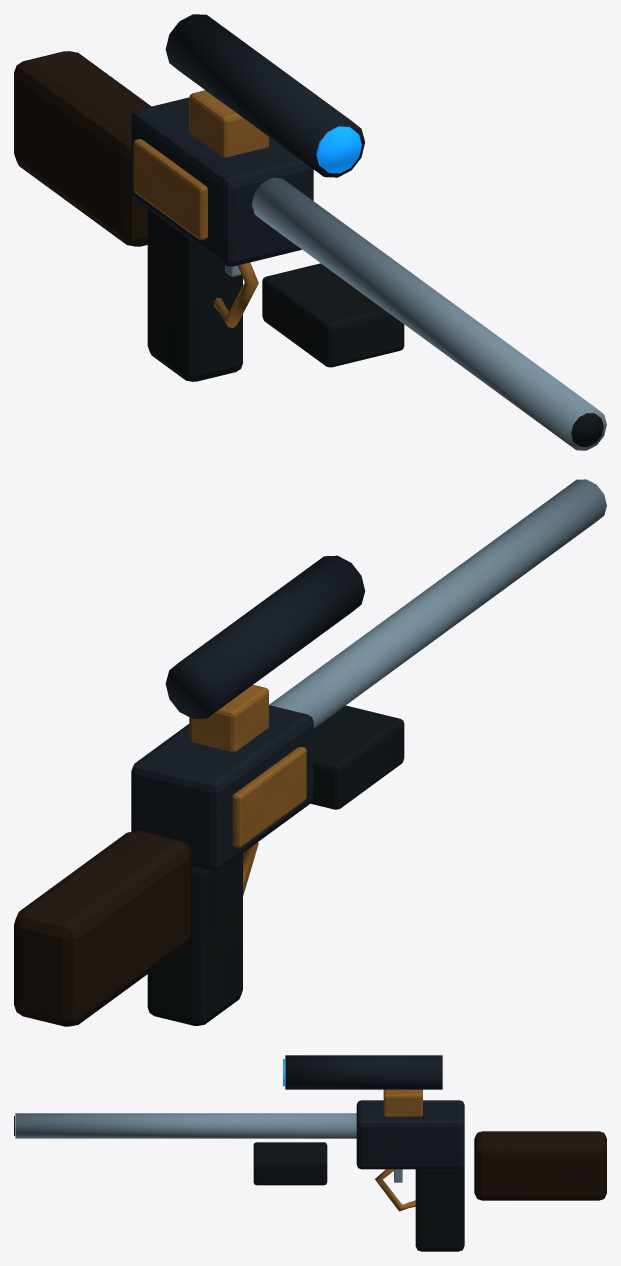
File: Gun_Sniper.fbx
3 views of the same model, one above another, from view 1: azimuth 30°, elevation 25°; view 2: azimuth 150°, elevation 25°; view 3: azimuth 270°, elevation 25° (orthographic). The views are drawn at different scales.
Visible parts, largest first — view 1: Gun_Sniper_DarkSteel, Gun_Sniper_Leather, Gun_Sniper_Steel, Gun_Sniper_Wood, Gun_Sniper_Gold, Gun_Sniper_Azure; view 2: Gun_Sniper_DarkSteel, Gun_Sniper_Wood, Gun_Sniper_Leather, Gun_Sniper_Steel, Gun_Sniper_Gold; view 3: Gun_Sniper_DarkSteel, Gun_Sniper_Wood, Gun_Sniper_Steel, Gun_Sniper_Leather, Gun_Sniper_Gold.
Part boxes in pixels (x1,y1,x2,y2): Gun_Sniper_DarkSteel: (131,14,365,266); Gun_Sniper_Leather: (147,209,603,446); Gun_Sniper_Steel: (225,178,606,450); Gun_Sniper_Wood: (14,51,151,246); Gun_Sniper_Gold: (133,90,268,327); Gun_Sniper_Azure: (316,126,361,173); Gun_Sniper_DarkSteel: (131,555,364,870); Gun_Sniper_Wood: (14,831,190,1026); Gun_Sniper_Leather: (147,705,404,1025); Gun_Sniper_Steel: (269,479,606,728); Gun_Sniper_Gold: (189,684,306,895); Gun_Sniper_DarkSteel: (285,1055,464,1169); Gun_Sniper_Wood: (474,1131,606,1200); Gun_Sniper_Steel: (15,1113,402,1182); Gun_Sniper_Leather: (14,1116,464,1251); Gun_Sniper_Gold: (375,1089,422,1211).
Size of the model in its own units: 0.1265 by 0.425 by 1.21.
